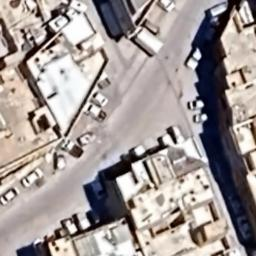SUV: (52, 149, 68, 173)
pickup: (82, 96, 106, 122)
sedan: (184, 39, 206, 72), (235, 213, 255, 244), (18, 167, 46, 189), (186, 96, 215, 112), (227, 191, 244, 217), (89, 86, 110, 107), (0, 186, 21, 206), (90, 177, 108, 200), (192, 112, 216, 124), (158, 0, 178, 14), (33, 238, 47, 256)
truck: (129, 26, 165, 58), (166, 124, 186, 146), (129, 144, 148, 166), (159, 132, 175, 154)
unknown: (58, 134, 86, 160), (213, 158, 232, 186), (64, 217, 80, 238), (87, 208, 104, 227)
